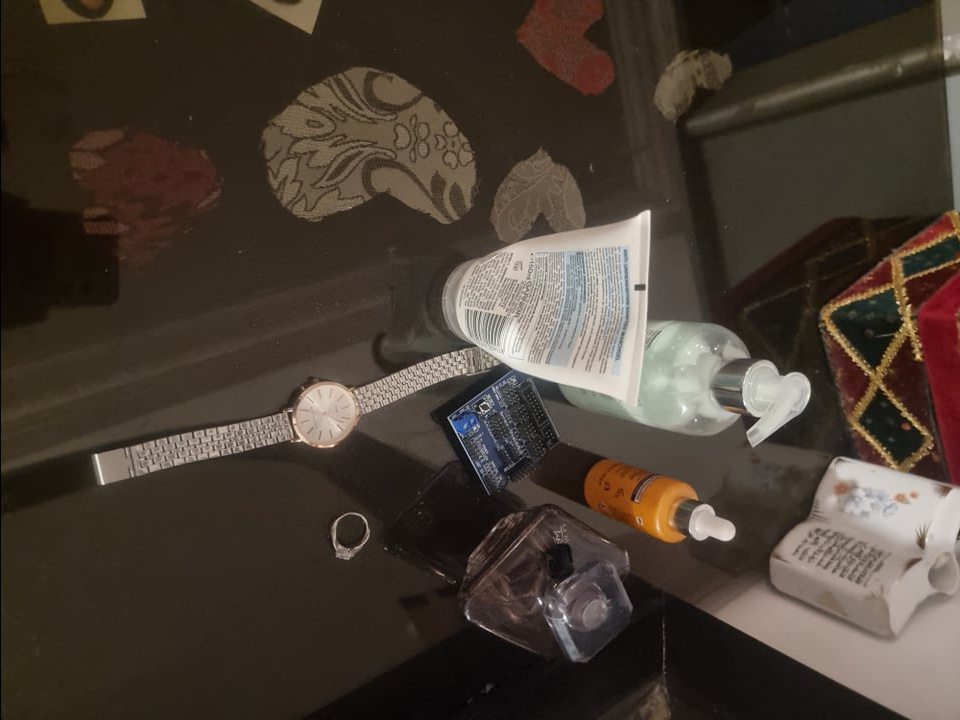5V EXPANSION: (442, 373, 558, 495)
